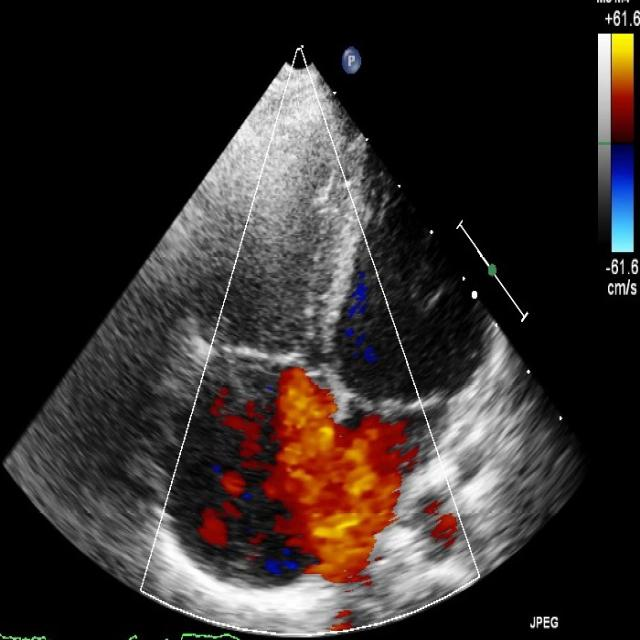ASDType2: (276, 374, 392, 562)
